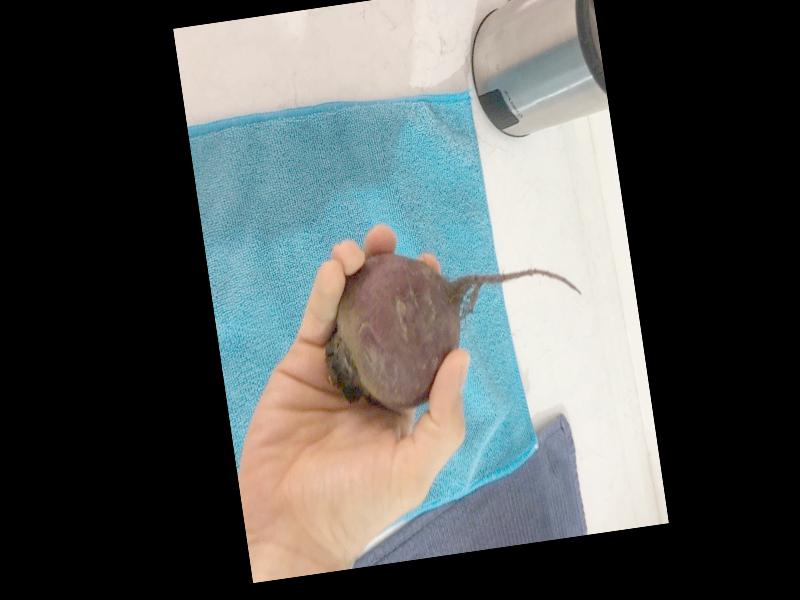Beet: (311, 225, 593, 419)
